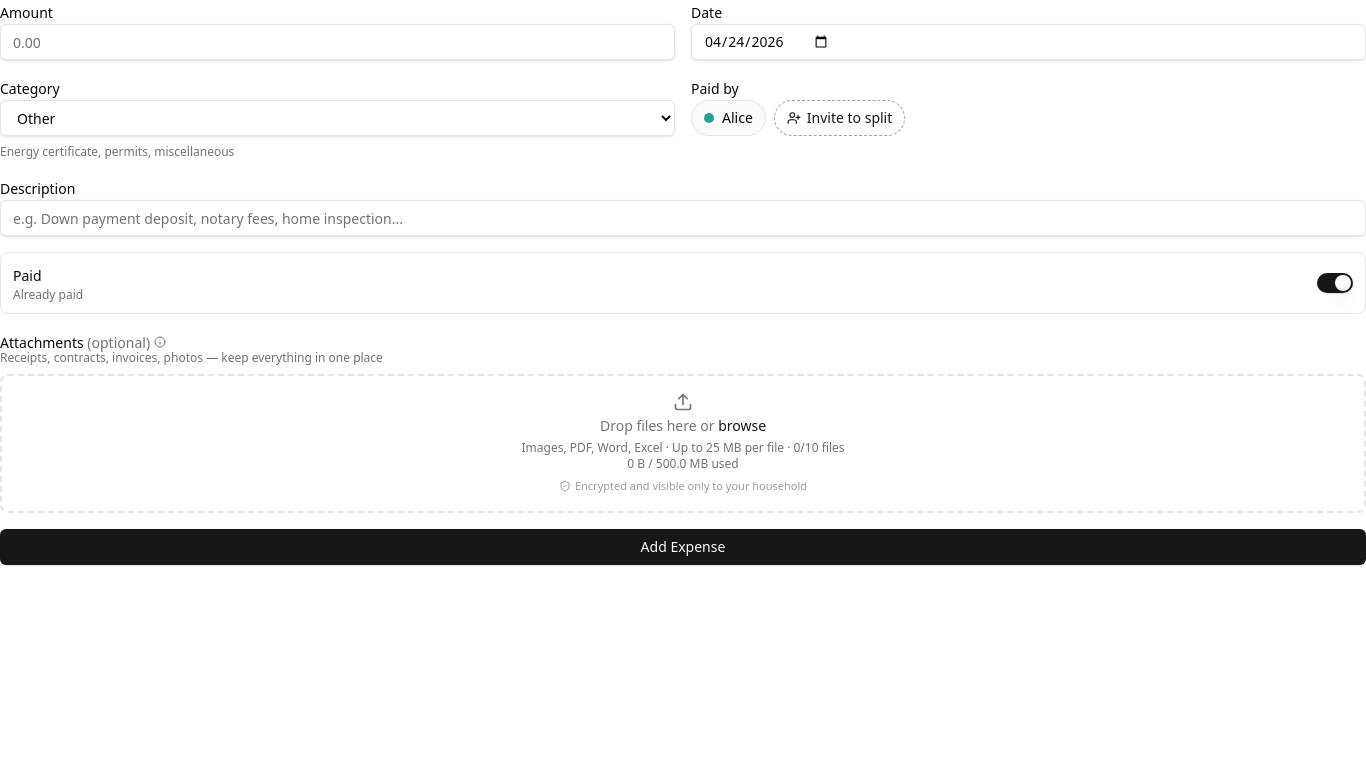
Test case: ExpenseForm payer behavior › single-member household › panel CTA opens the dialog and the inline panel collapses
The image size is (1366, 768).
Click the button "Invite to split": (840, 118) [774,100,905,136]
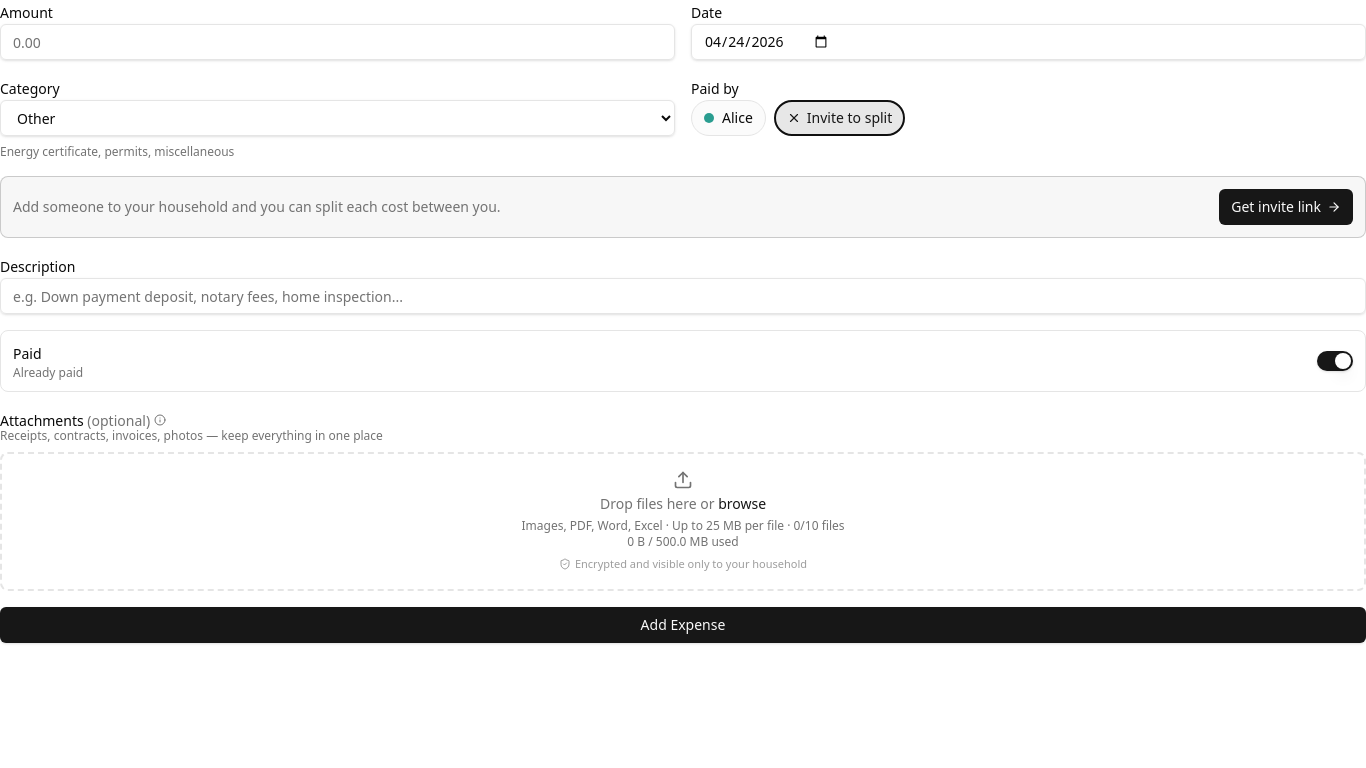
Click the button "Get invite link": (1286, 207) [1219,189,1353,225]
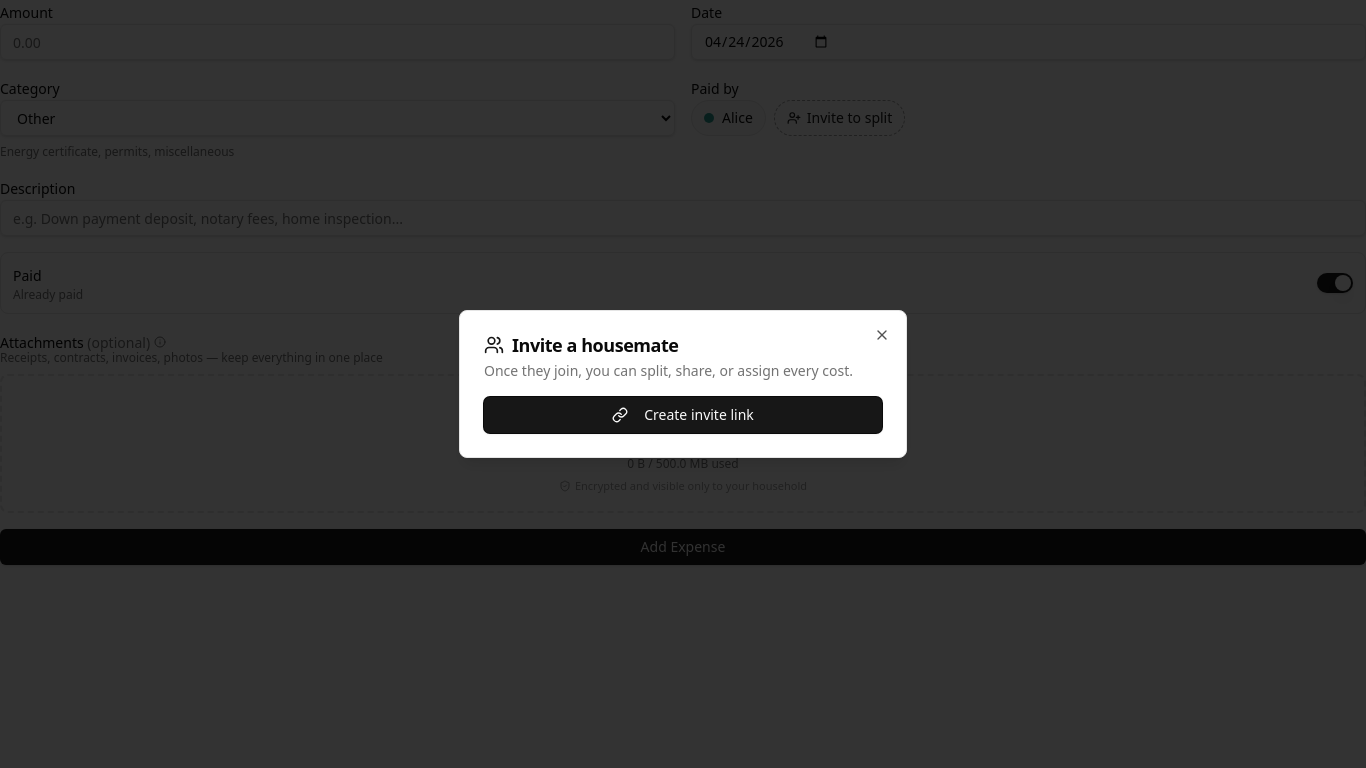
Now the heading "Invite a housemate" is shown, box [512,336,678,354]
Now the text "Add someone to your household" is gone
